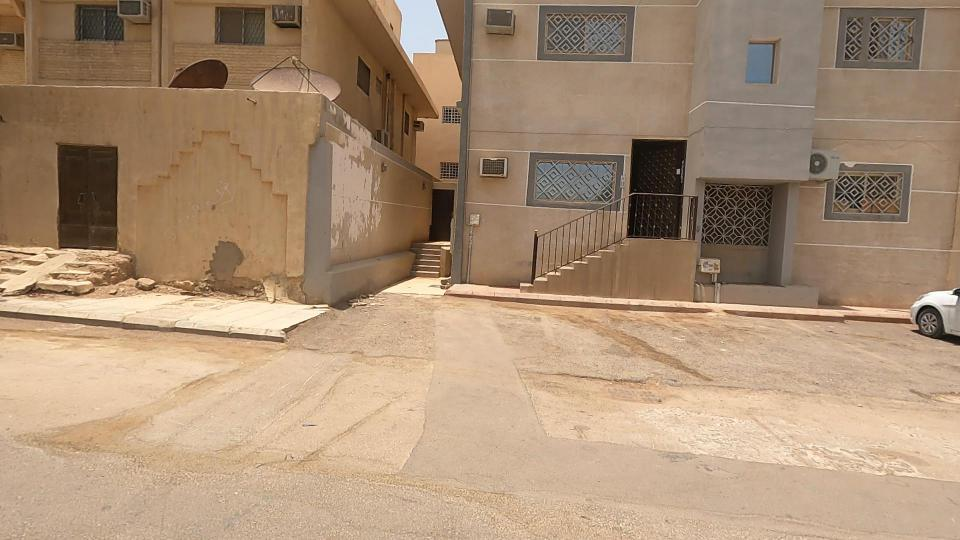POTHOLES: (0, 334, 299, 532), (485, 325, 721, 436), (574, 296, 742, 400)
